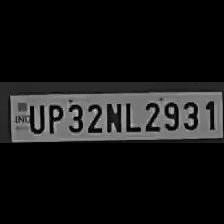1: (201, 98, 219, 130)
2: (140, 98, 160, 132), (84, 100, 104, 132)
3: (180, 97, 200, 130), (64, 100, 84, 132)
9: (160, 97, 180, 130)
L: (122, 99, 139, 133)
N: (102, 99, 122, 133)
P: (44, 100, 64, 134)
U: (24, 101, 43, 133)
